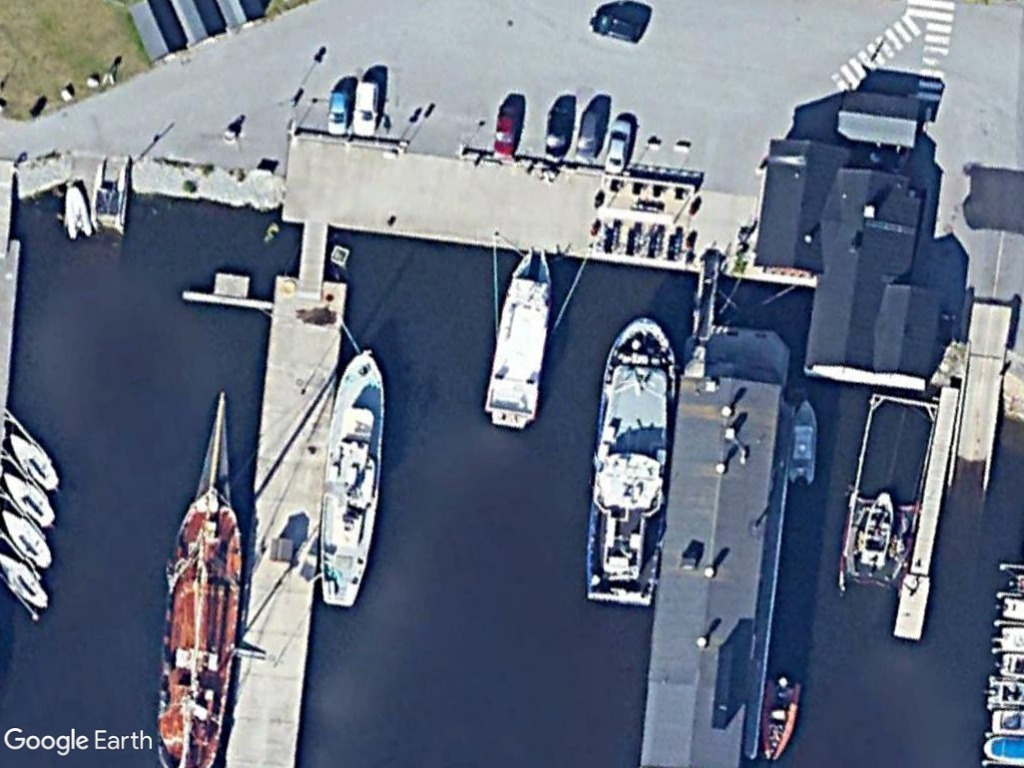boat: (580, 310, 681, 610), (151, 484, 248, 768), (314, 344, 386, 612), (479, 245, 556, 436), (753, 673, 803, 762), (4, 428, 65, 496), (0, 465, 57, 531), (0, 503, 54, 571), (854, 488, 897, 573), (785, 396, 821, 486), (0, 551, 50, 611)
car: (599, 114, 637, 179), (589, 9, 647, 45), (570, 105, 606, 163), (491, 98, 521, 163), (543, 102, 574, 163), (326, 81, 355, 137)
van: (349, 74, 382, 139)
